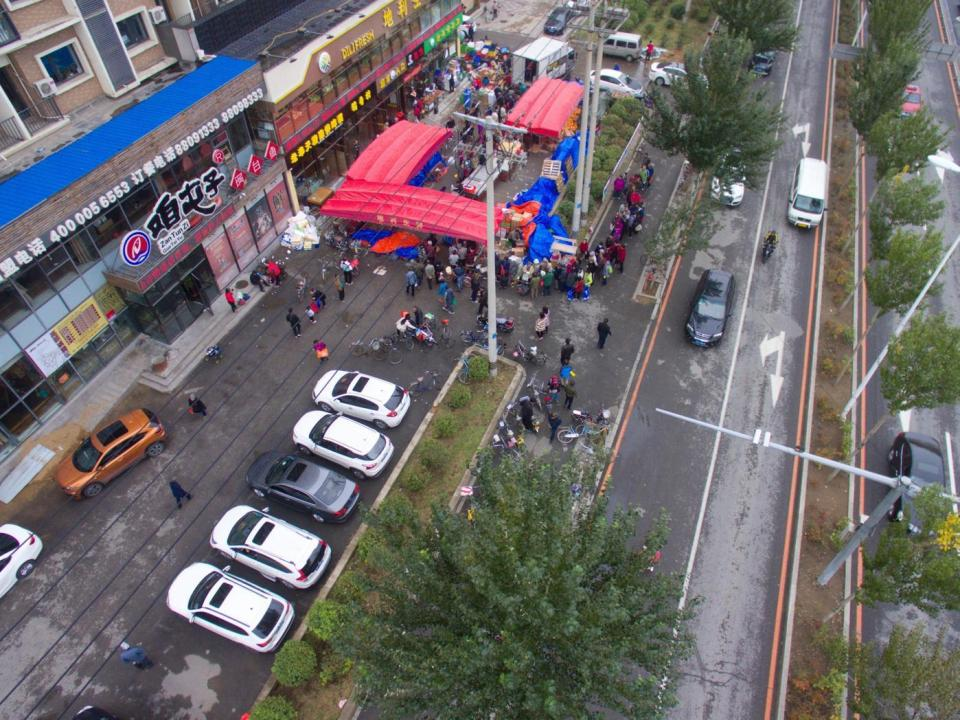bus: (785, 157, 829, 230)
car: (166, 562, 296, 654), (53, 406, 167, 502), (209, 506, 333, 593), (246, 450, 362, 526), (293, 410, 396, 481), (888, 432, 945, 544), (313, 369, 410, 427), (682, 267, 734, 347), (708, 145, 747, 209), (649, 61, 711, 93), (586, 68, 644, 98), (750, 33, 774, 76), (899, 82, 923, 124), (544, 4, 574, 33), (448, 15, 477, 38)
van: (511, 34, 578, 88), (596, 32, 644, 61)
